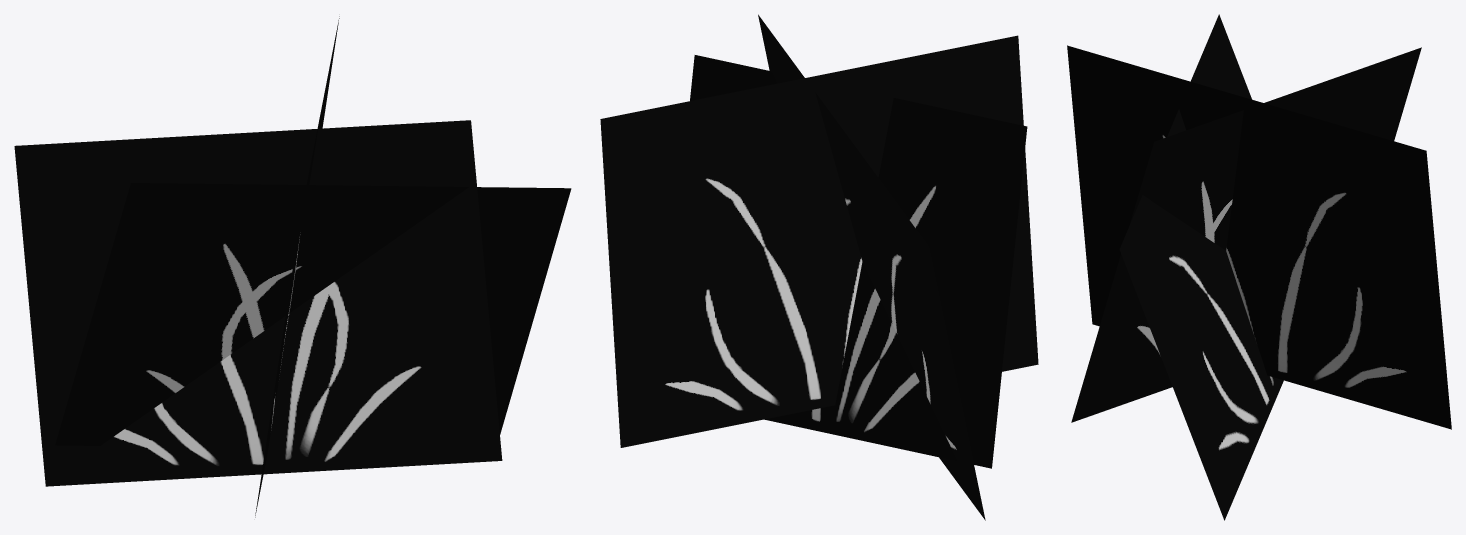
Rendered from grass03.fbx.
The picture shows the model from 3 angles, left to right: view 1: azimuth 30°, elevation 25°; view 2: azimuth 150°, elevation 25°; view 3: azimuth 270°, elevation 25°; orthographic projection. The views are drawn at different scales.
Parts seen in each view (by area): view 1: Plane477; view 2: Plane477; view 3: Plane477.
Part boxes in pixels (bbox=[...]): Plane477: bbox=[14, 16, 571, 517]; Plane477: bbox=[600, 14, 1038, 520]; Plane477: bbox=[1067, 14, 1451, 520].
Bounding box in the file's own units: 347 × 303 × 301.
